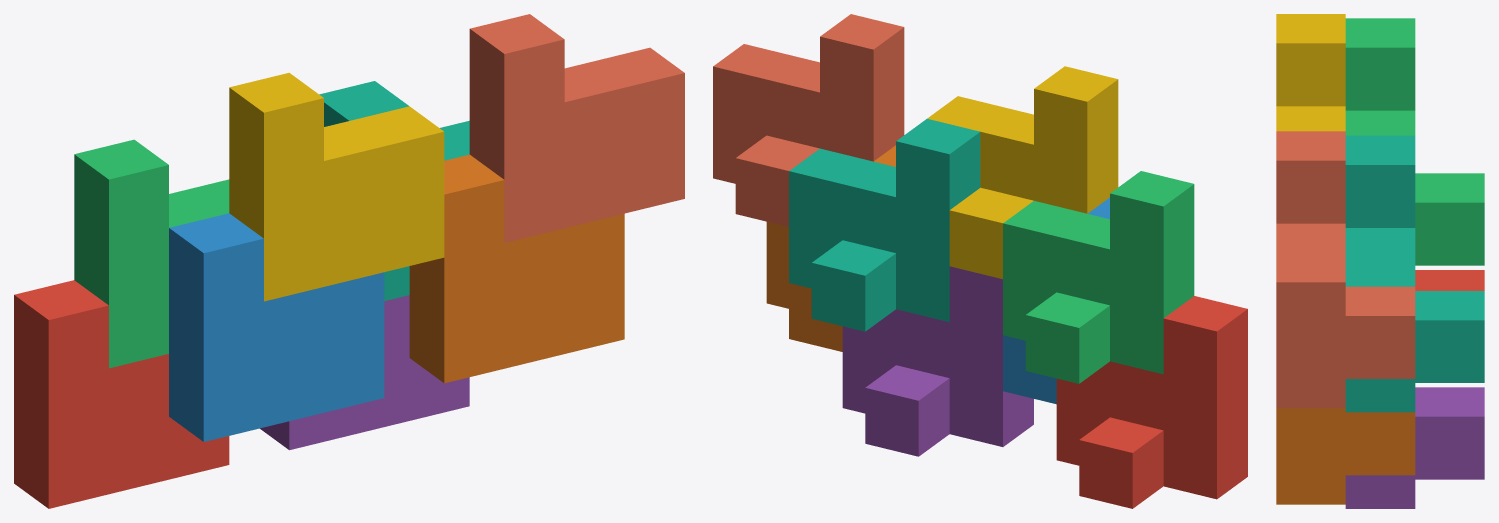
The model's file is tiling.obj.
3 views of the same model, side by side, from view 1: azimuth 30°, elevation 25°; view 2: azimuth 150°, elevation 25°; view 3: azimuth 270°, elevation 25° (orthographic). The views are drawn at different scales.
Visible parts, largest first — view 1: copy_1_domain_8, copy_1_domain_4, copy_1_domain_2, copy_1_domain_6, copy_1_domain_1, copy_1_domain_3, copy_1_domain_5, copy_1_domain_7; view 2: copy_1_domain_3, copy_1_domain_7, copy_1_domain_1, copy_1_domain_8, copy_1_domain_5, copy_1_domain_4, copy_1_domain_6, copy_1_domain_2; view 3: copy_1_domain_8, copy_1_domain_7, copy_1_domain_3, copy_1_domain_6, copy_1_domain_5, copy_1_domain_4, copy_1_domain_1.
Part boxes in pixels (x1,y1,x2,y2): copy_1_domain_8: (469, 14, 684, 242); copy_1_domain_4: (229, 72, 444, 301); copy_1_domain_2: (169, 213, 384, 441); copy_1_domain_6: (409, 154, 624, 383); copy_1_domain_1: (14, 280, 229, 508); copy_1_domain_3: (74, 139, 229, 368); copy_1_domain_5: (260, 295, 469, 450); copy_1_domain_7: (319, 81, 469, 300); copy_1_domain_3: (1003, 171, 1194, 383); copy_1_domain_7: (789, 118, 980, 331); copy_1_domain_1: (1056, 296, 1247, 508); copy_1_domain_8: (713, 14, 904, 226); copy_1_domain_5: (842, 266, 1033, 456); copy_1_domain_4: (927, 66, 1118, 279); copy_1_domain_6: (766, 145, 895, 351); copy_1_domain_2: (1003, 197, 1109, 404); copy_1_domain_8: (1276, 131, 1415, 408); copy_1_domain_7: (1345, 135, 1484, 412); copy_1_domain_3: (1345, 18, 1484, 265); copy_1_domain_6: (1276, 408, 1415, 504); copy_1_domain_5: (1345, 387, 1484, 508); copy_1_domain_4: (1276, 14, 1345, 131); copy_1_domain_1: (1415, 270, 1484, 290).
Bounding box in the file's own units: 10 × 6 × 3.
